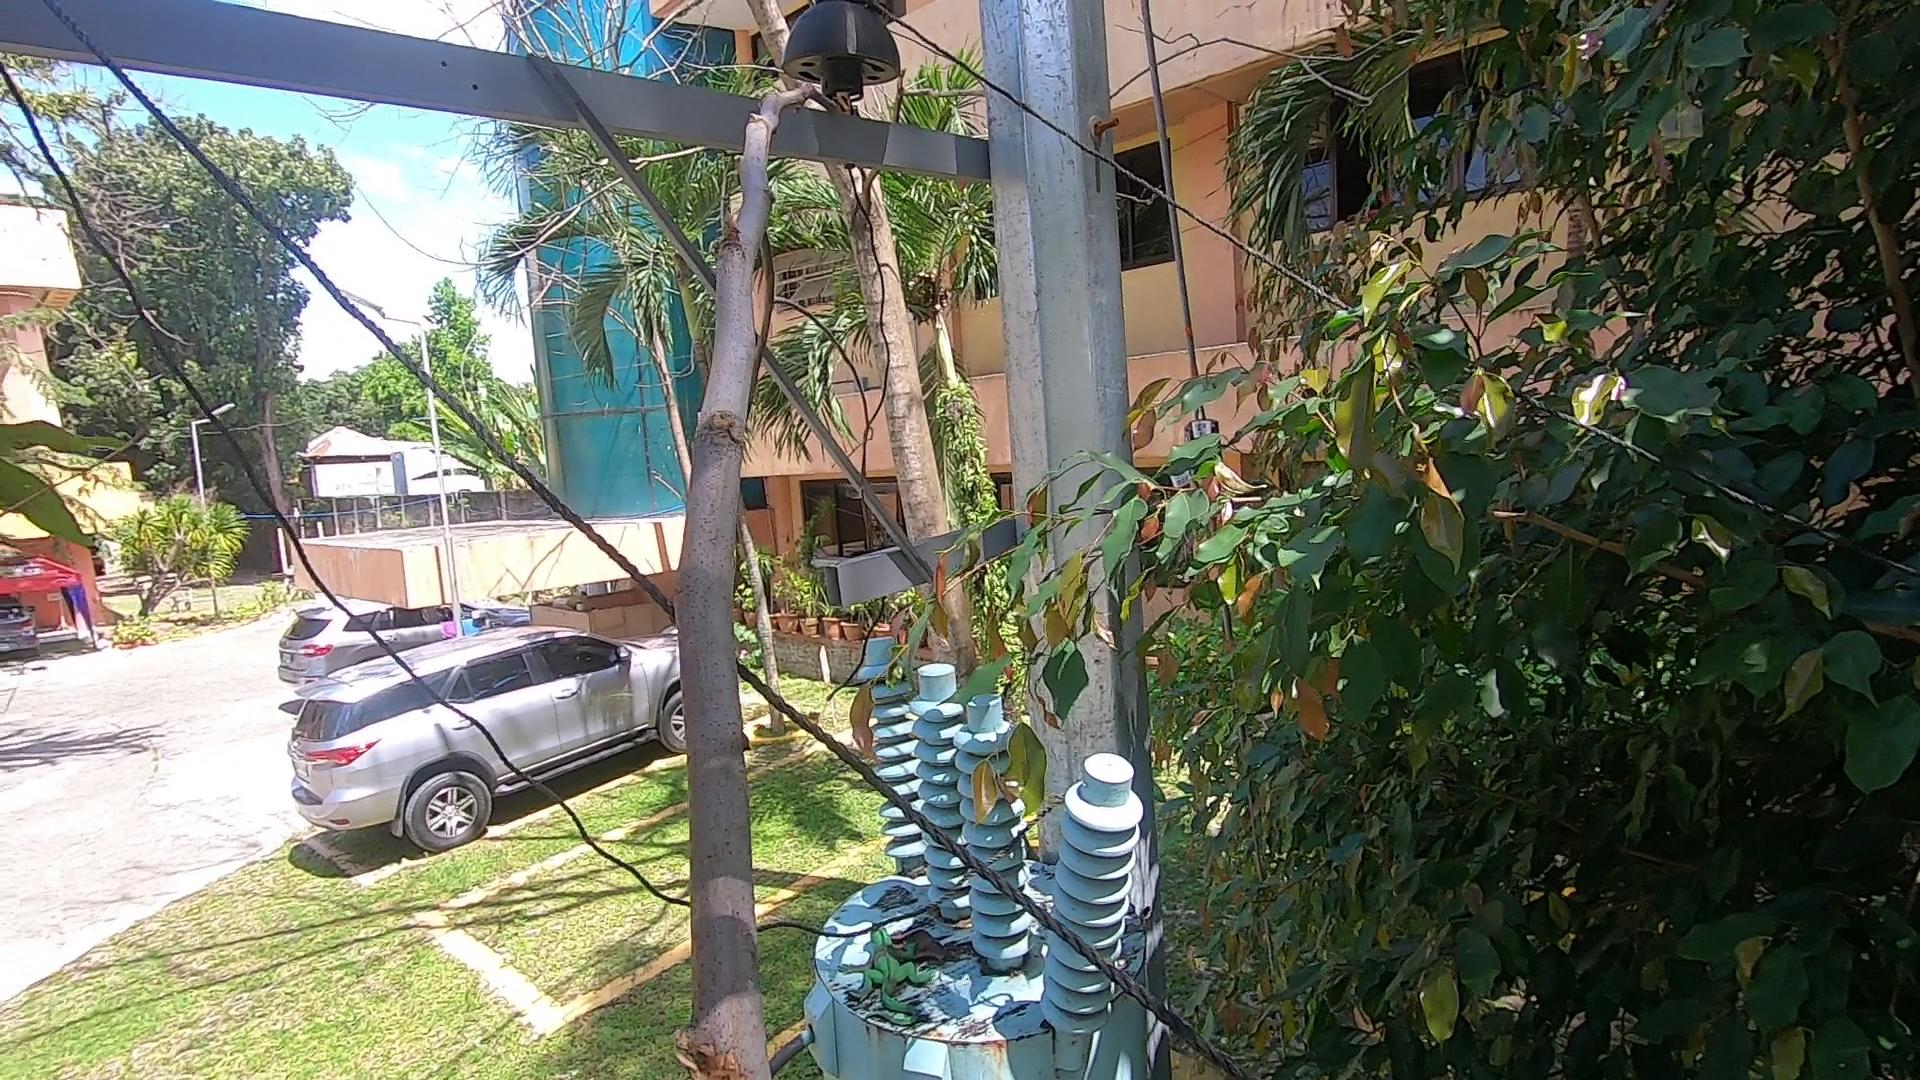branch with leaves: (810, 509, 1168, 849)
leaf: (884, 916, 953, 968), (897, 865, 938, 886)
tree branch: (654, 49, 858, 1080)
